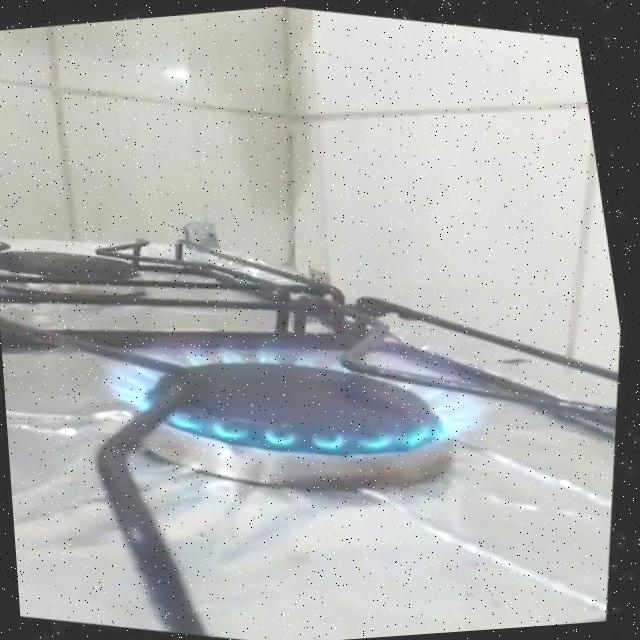fire: (85, 269, 515, 504)
